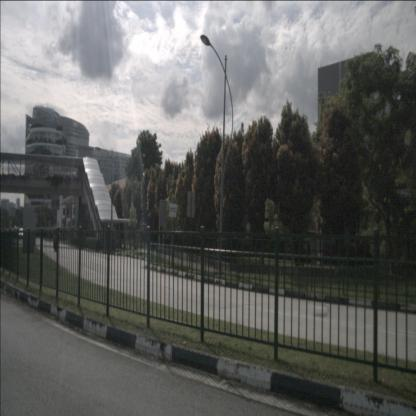vehicle-car: (18, 228, 24, 239)
vehicle-motorcycle: (53, 226, 60, 253)
